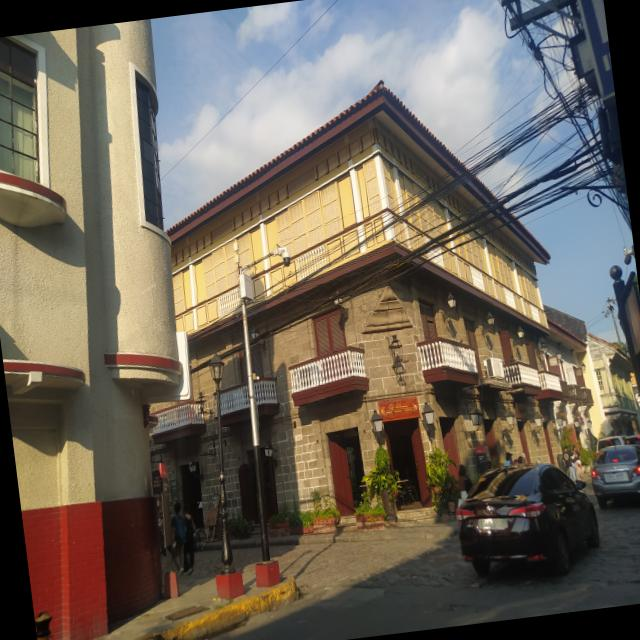Casa Manila: (157, 72, 598, 539)
